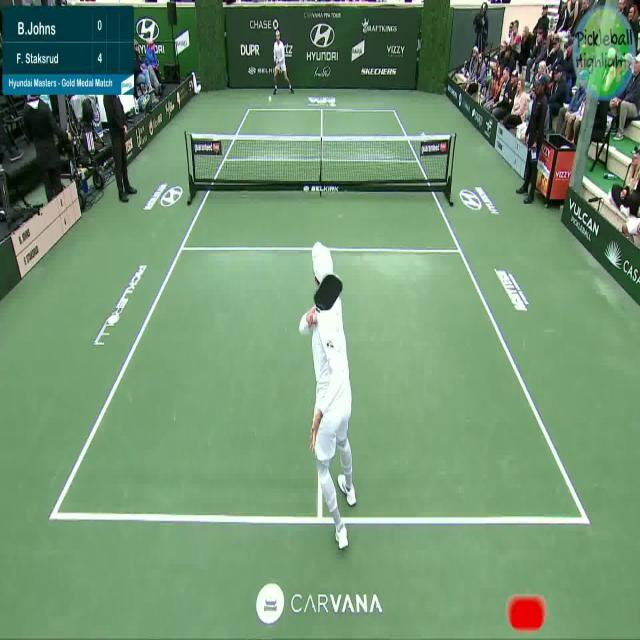ball: (268, 95, 272, 102)
